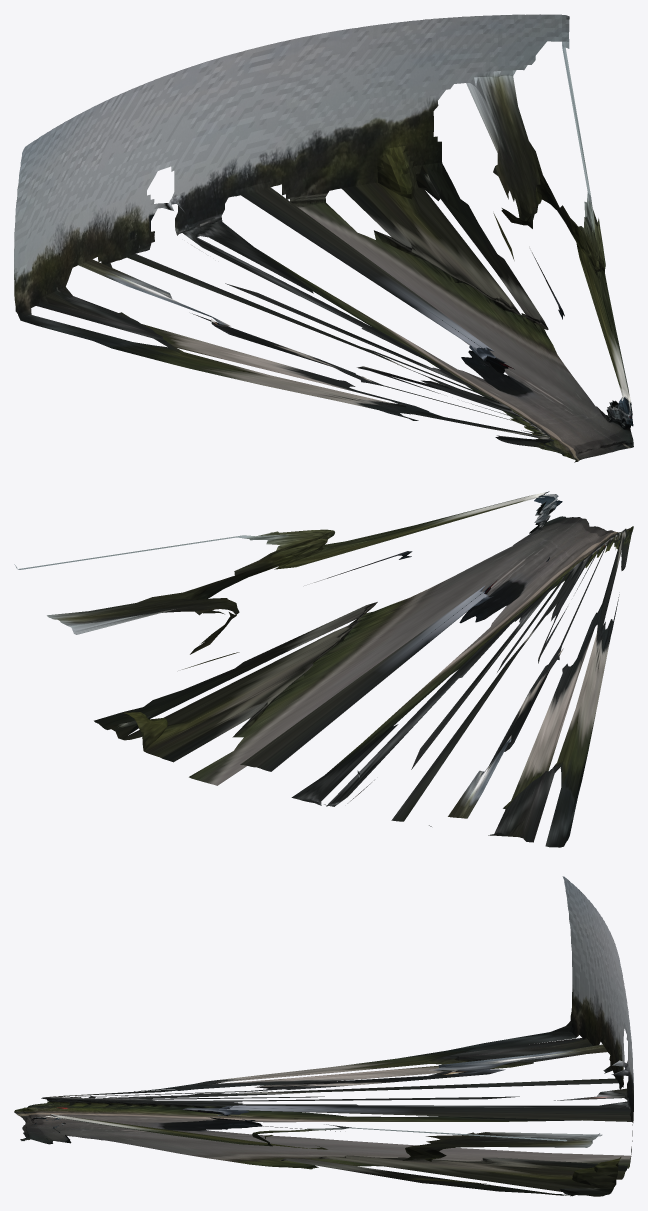
The picture shows the model from 3 angles, top to bottom: view 1: azimuth 30°, elevation 25°; view 2: azimuth 150°, elevation 25°; view 3: azimuth 270°, elevation 25°; orthographic projection. The views are drawn at different scales.
Parts seen in each view (by area): view 1: defaultobject; view 2: defaultobject; view 3: defaultobject.
Boxes of the visible parts, box(x1,y1,x2,y2) form: defaultobject: box(14, 14, 633, 462); defaultobject: box(14, 491, 633, 847); defaultobject: box(14, 876, 633, 1196).
Size of the model in its own units: 40.97 by 13.26 by 44.92.
1 material, 1 textured.
